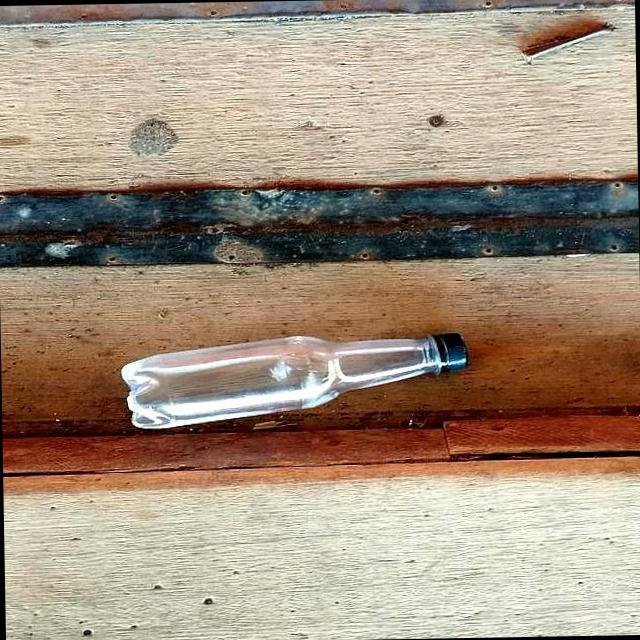Non-biodegradable: (121, 332, 470, 431)
